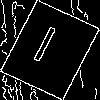I: (25, 24, 60, 72)
